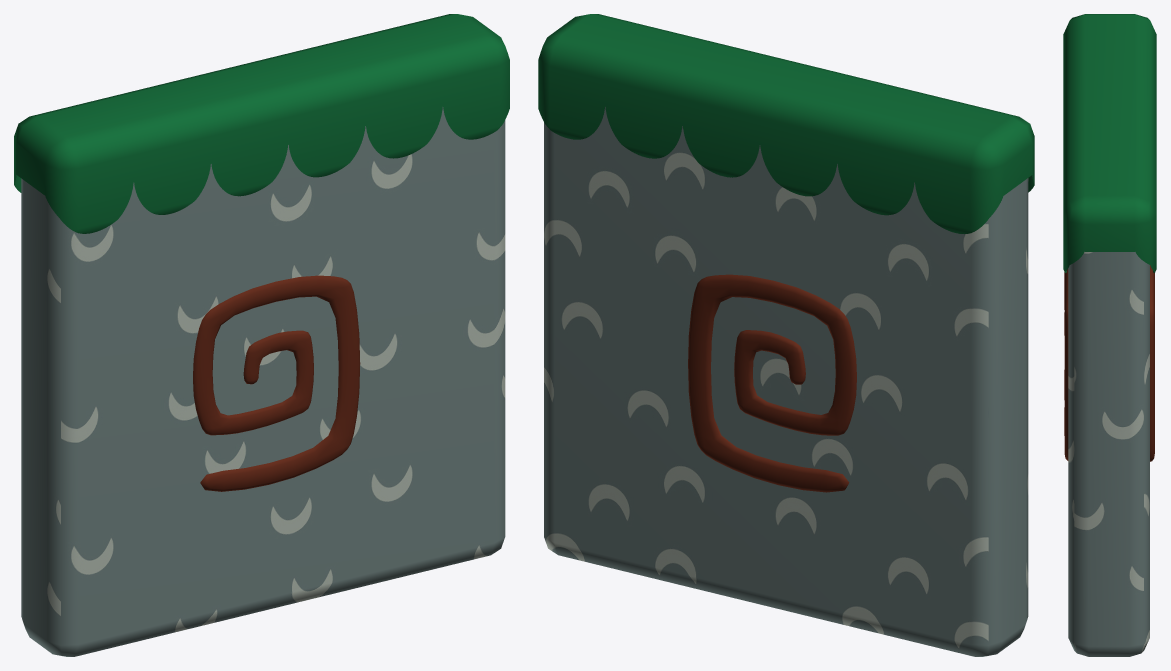
Rendered from Door.fbx.
3 views of the same model, side by side, from view 1: azimuth 30°, elevation 25°; view 2: azimuth 150°, elevation 25°; view 3: azimuth 270°, elevation 25° (orthographic). The views are drawn at different scales.
Visible parts, largest first — view 1: Doorr1, Doorr2, Doorr5; view 2: Doorr1, Doorr2, Doorr5; view 3: Doorr1, Doorr2, Doorr5.
Part boxes in pixels (x1=…): Doorr1: x1=21, y1=107, x2=505, y2=656; Doorr2: x1=14, y1=14, x2=509, y2=233; Doorr5: x1=193, y1=275, x2=360, y2=491; Doorr1: x1=544, y1=107, x2=1028, y2=656; Doorr2: x1=538, y1=14, x2=1034, y2=234; Doorr5: x1=688, y1=274, x2=856, y2=492; Doorr1: x1=1068, y1=252, x2=1149, y2=656; Doorr2: x1=1063, y1=14, x2=1156, y2=272; Doorr5: x1=1064, y1=265, x2=1154, y2=461.
Size of the model in its own units: 3.12 by 3.37 by 0.6184.
